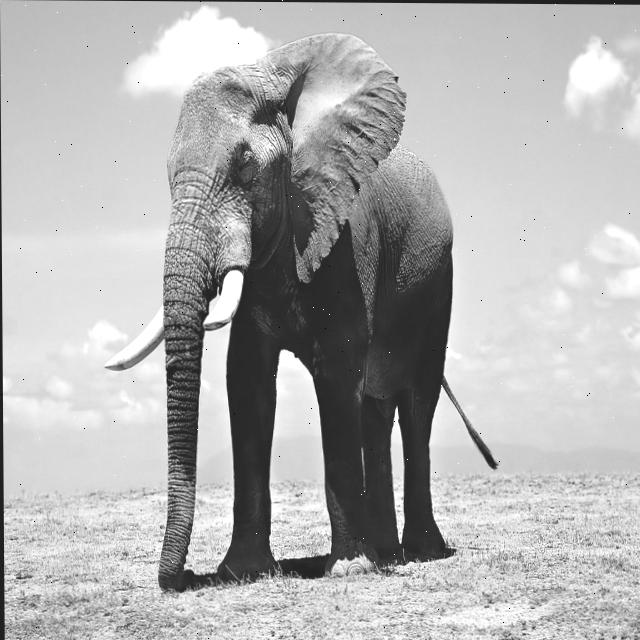Elephant: (101, 29, 500, 595)
